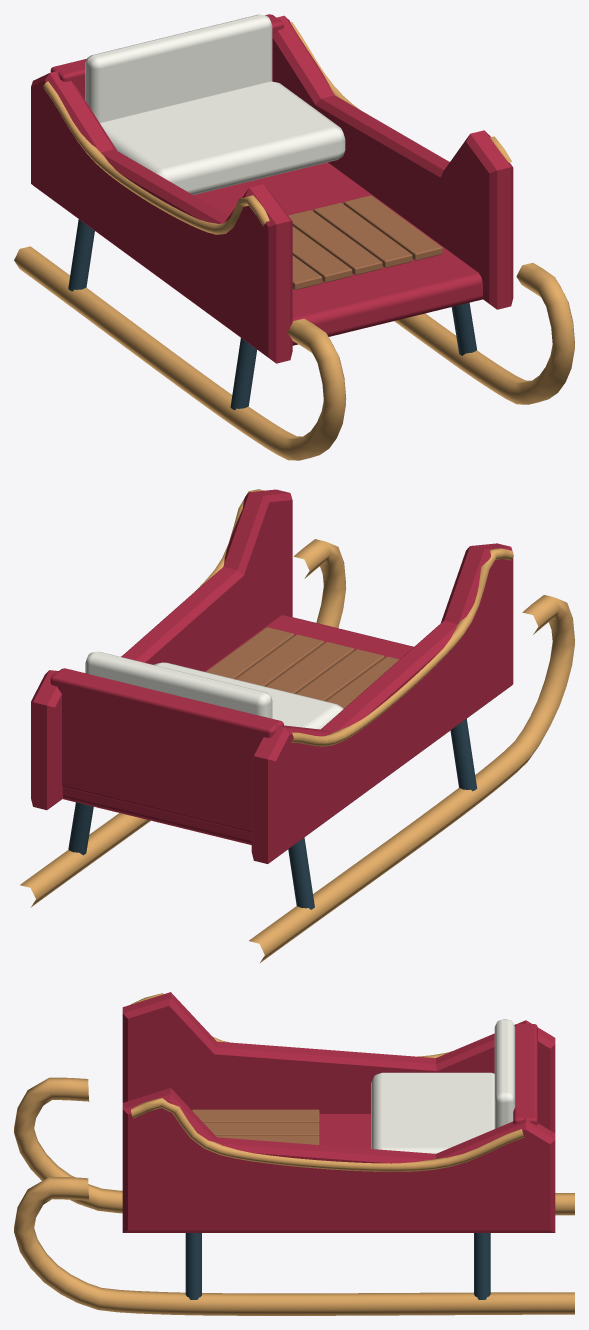
The model's file is storybook-christmas-market-royal-delivery-sleigh-3a3b8145__19698.glb.
3 renders of one model, top to bottom at view 1: azimuth 30°, elevation 25°; view 2: azimuth 150°, elevation 25°; view 3: azimuth 270°, elevation 25°, orthographic. The views are drawn at different scales.
Visible parts, largest first — view 1: royal-delivery-sleigh; view 2: royal-delivery-sleigh; view 3: royal-delivery-sleigh.
Part boxes in pixels (x1=…): royal-delivery-sleigh: x1=14, y1=14, x2=574, y2=460; royal-delivery-sleigh: x1=20, y1=489, x2=574, y2=962; royal-delivery-sleigh: x1=14, y1=992, x2=574, y2=1315.
Bounding box in the file's own units: 1.25 × 1.18 × 2.72.
